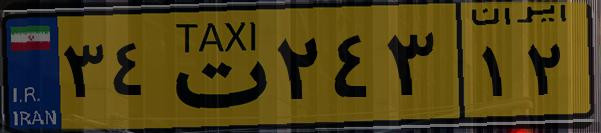1: (475, 38, 525, 113)
2: (270, 28, 330, 110), (525, 38, 570, 115)
3: (385, 28, 445, 110), (57, 26, 110, 100)
4: (330, 28, 385, 110), (110, 28, 158, 98)
ت: (158, 12, 270, 120)
